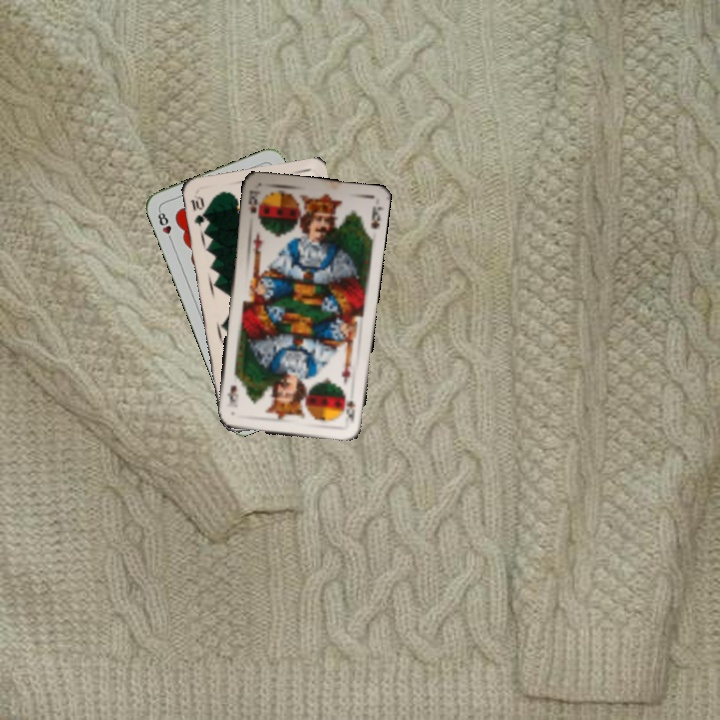G10: (186, 191, 208, 229)
H8: (154, 206, 176, 245)
SK: (339, 388, 358, 425), (244, 186, 263, 216)
